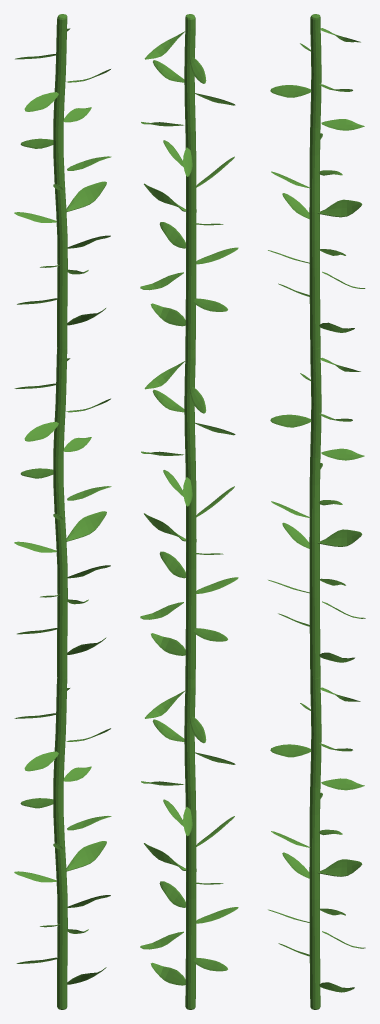
Rendered from kelpCycleEngine_Iteration1.fbx.
3 views of the same model, side by side, from view 1: azimuth 30°, elevation 25°; view 2: azimuth 150°, elevation 25°; view 3: azimuth 330°, elevation 25° (orthographic).
Parts seen in each view (by area): view 1: Plane; view 2: Plane; view 3: Plane.
Boxes of the visible parts, left/top/right/bottom form: Plane: left=14, top=14, right=111, bottom=1009; Plane: left=140, top=14, right=238, bottom=1009; Plane: left=268, top=14, right=365, bottom=1009.
Bounding box in the file's own units: 751 × 8140 × 621.
